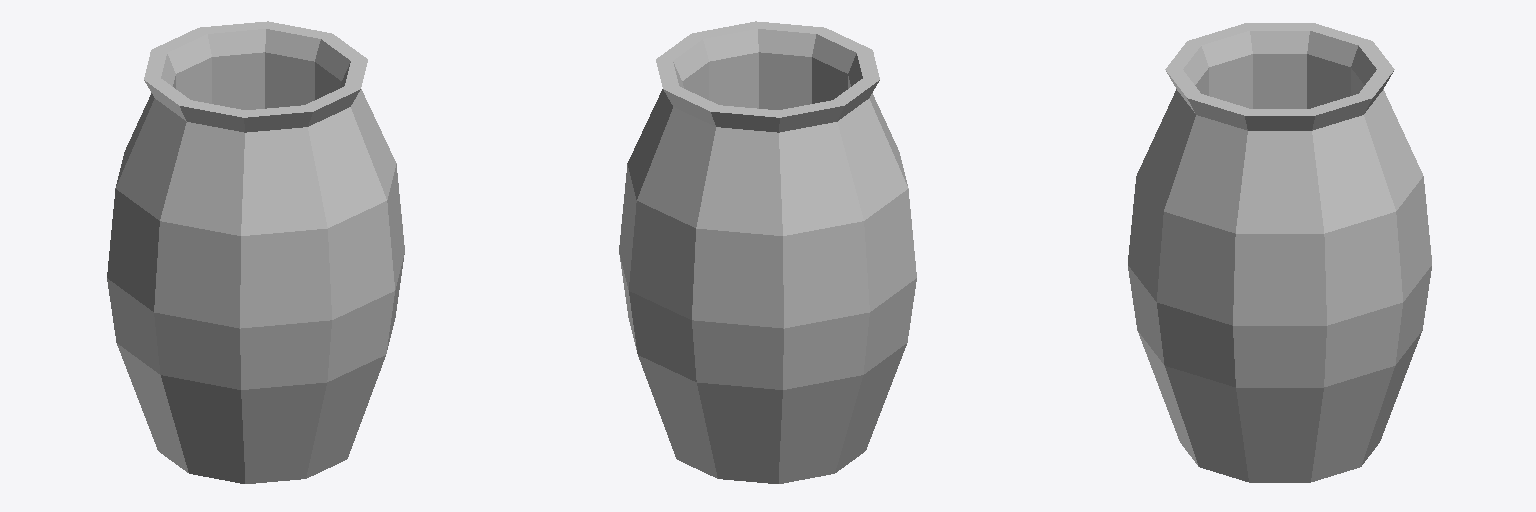
Rendered from Plant 2.1.obj.
3 renders of one model, left to right at view 1: azimuth 30°, elevation 25°; view 2: azimuth 150°, elevation 25°; view 3: azimuth 270°, elevation 25°, orthographic.
Parts seen in each view (by area): view 1: Cylinder; view 2: Cylinder; view 3: Cylinder.
Boxes of the visible parts, box(x1,y1,x2,y2) form: Cylinder: box(107, 21, 404, 483); Cylinder: box(619, 21, 916, 483); Cylinder: box(1128, 23, 1431, 482).
Size of the model in its own units: 2.03 by 2.88 by 2.14.